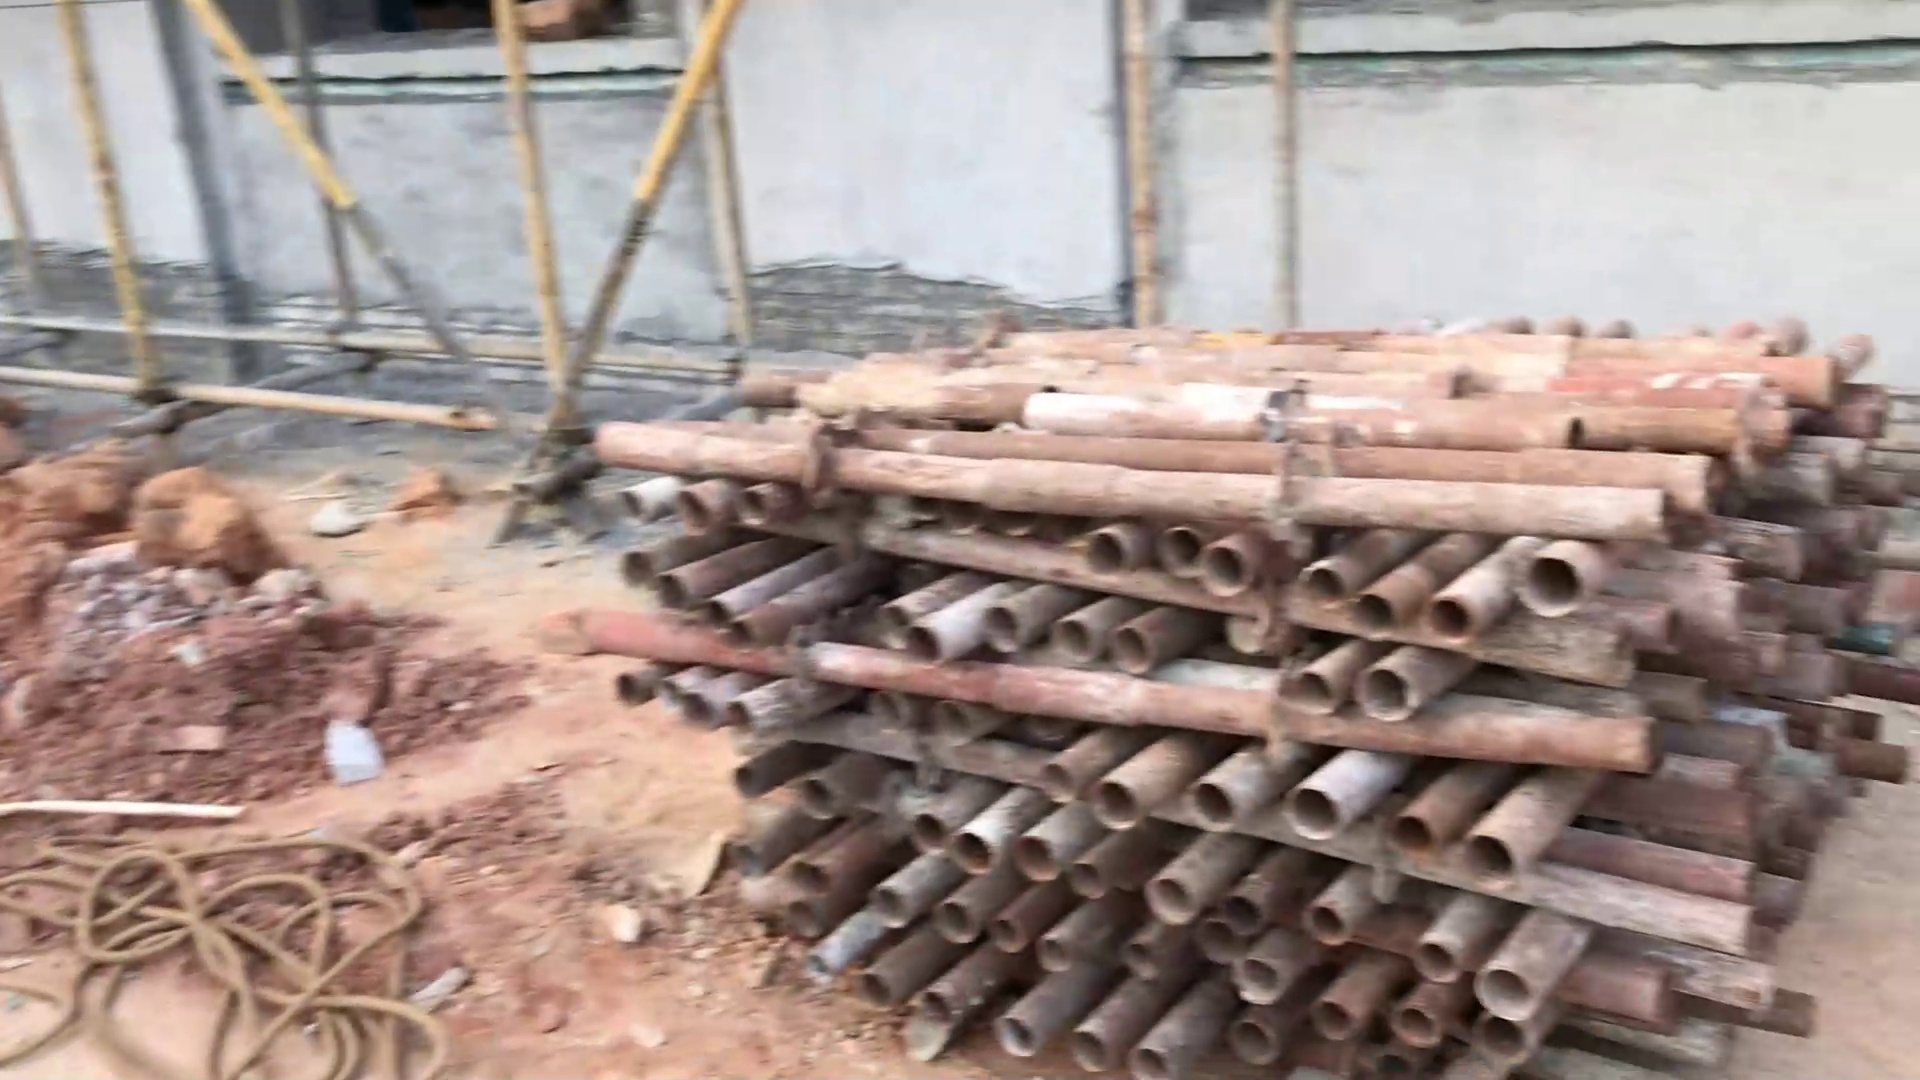scaffold: (618, 301, 1912, 1080)
